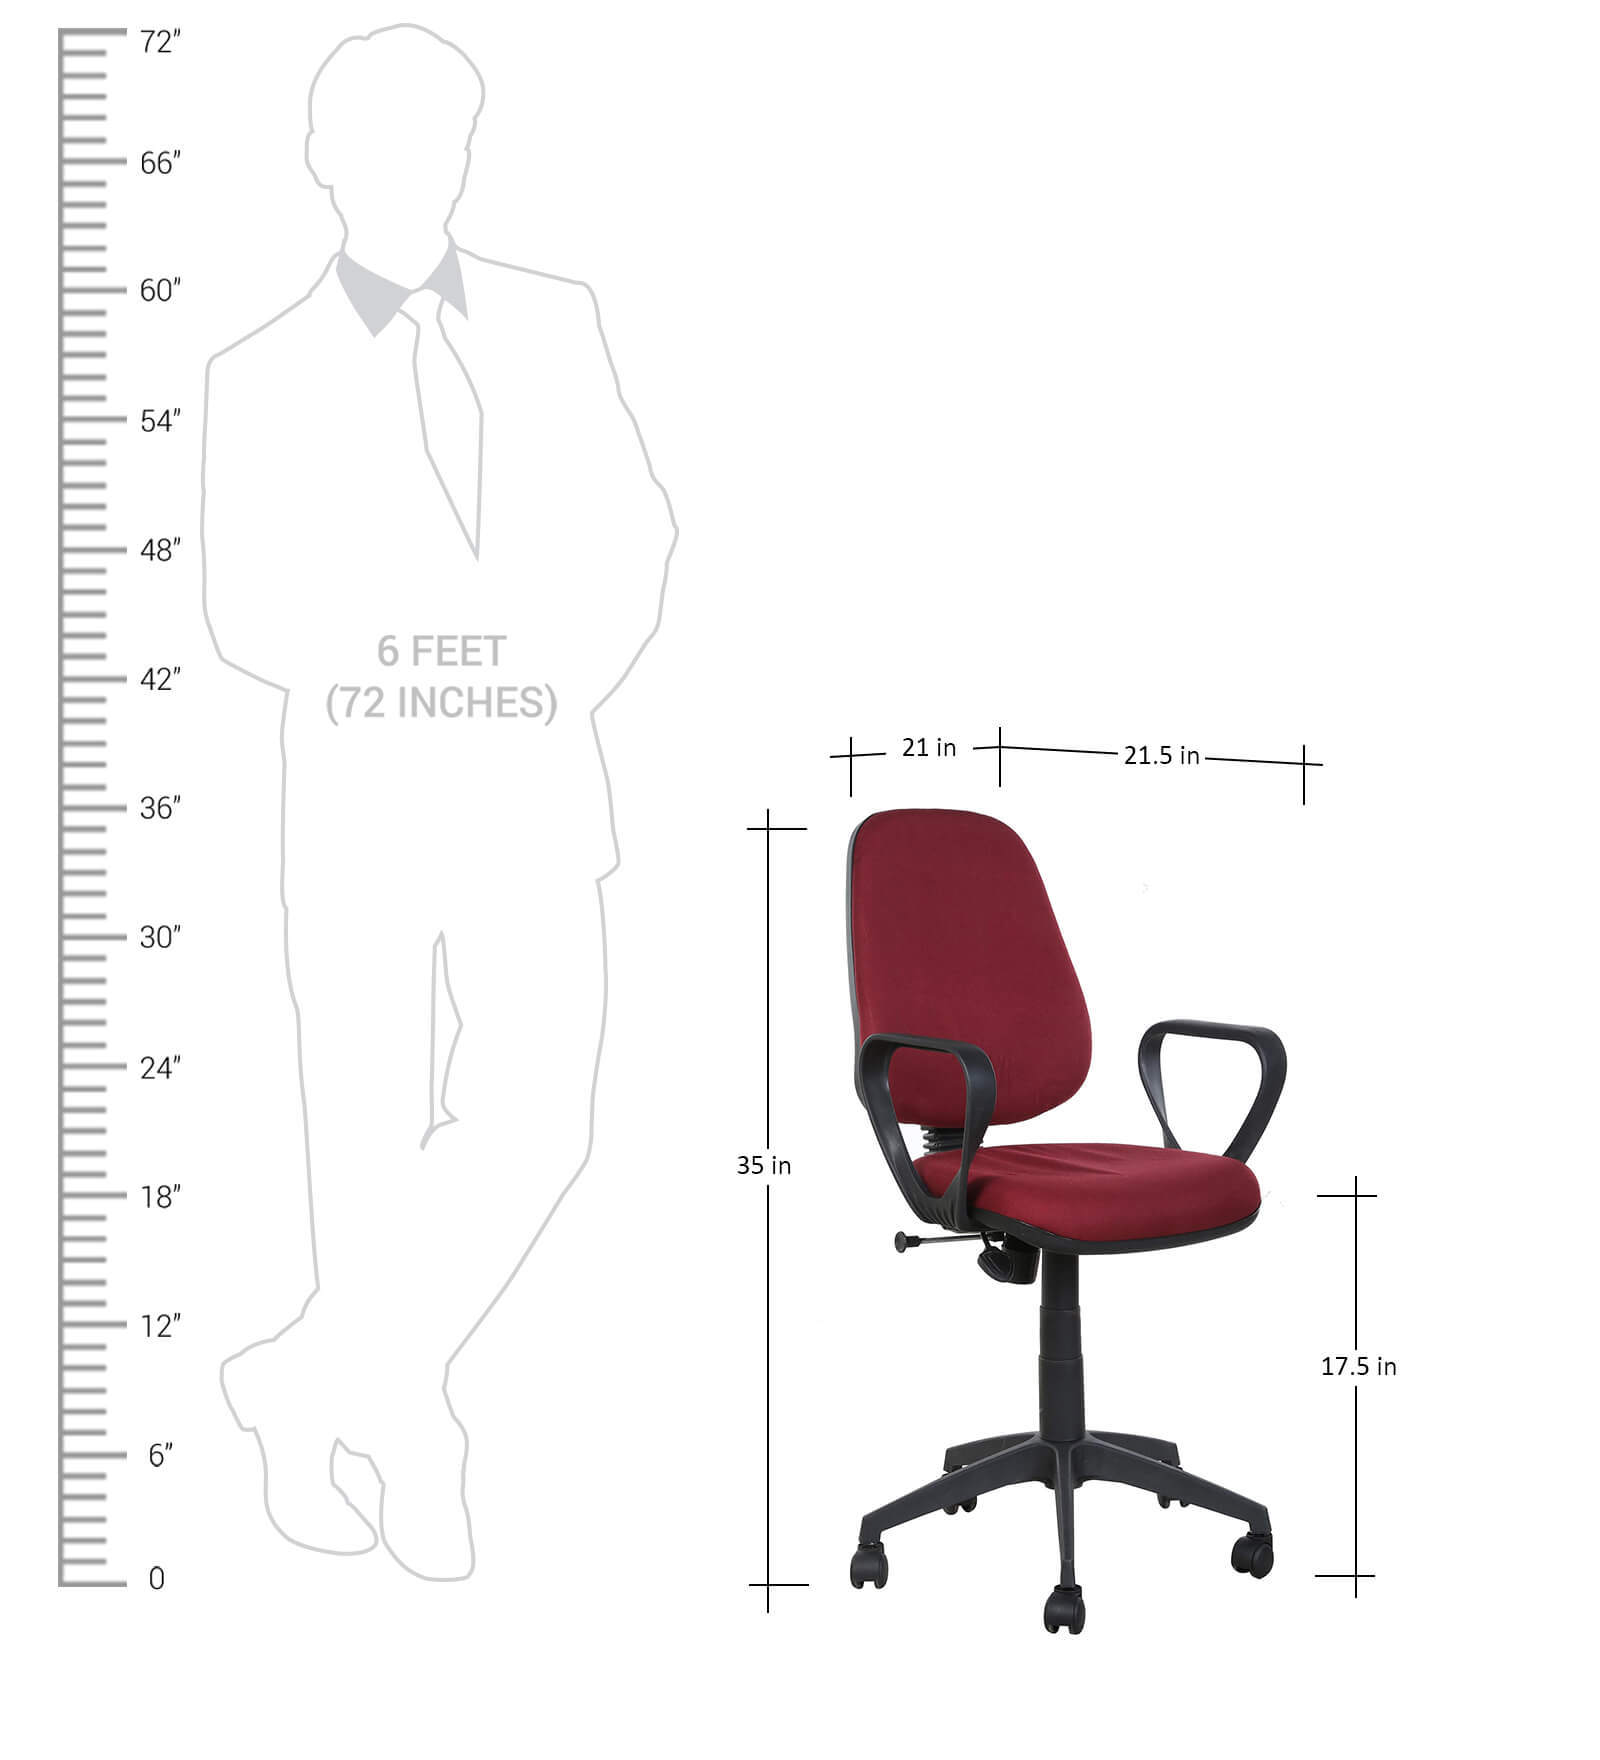Star Ergonomic Chair in Maroon Colour by Parin: (815, 786, 1307, 1651)
